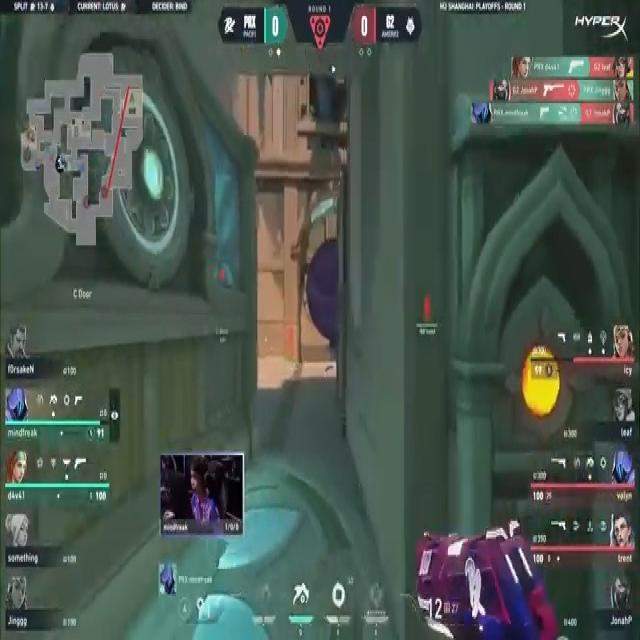smoke: (304, 236, 343, 355)
